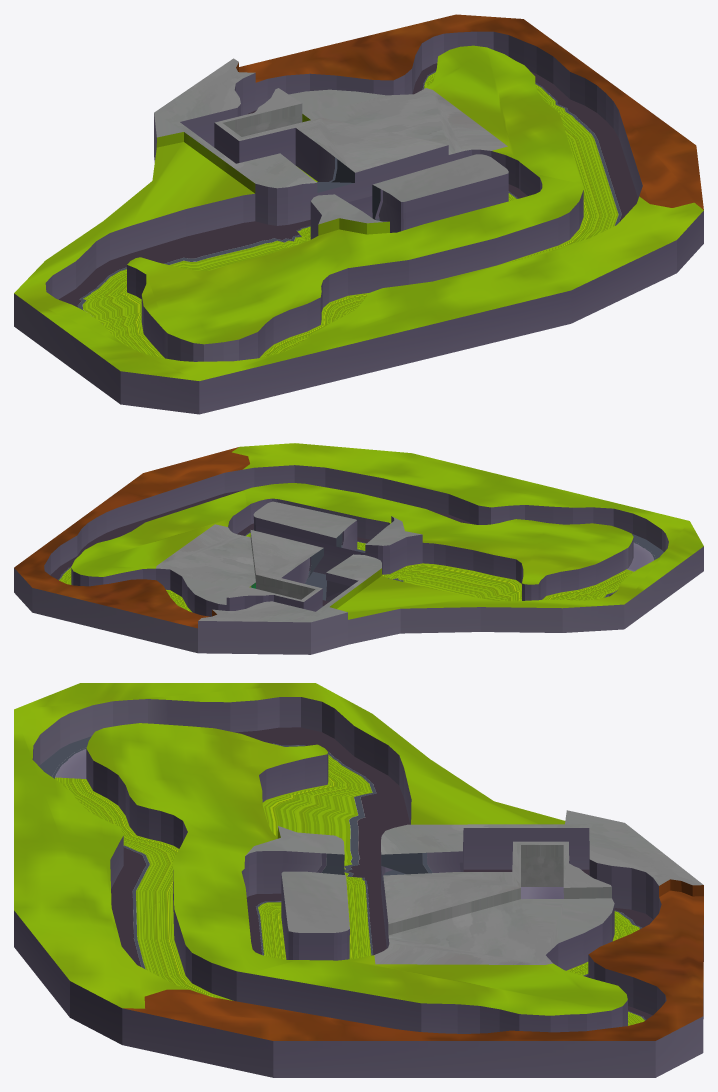
File: coll_mapa.fbx
3 views of the same model, one above another, from view 1: azimuth 30°, elevation 25°; view 2: azimuth 150°, elevation 25°; view 3: azimuth 270°, elevation 25° (orthographic). The views are drawn at different scales.
Visible parts, largest first — view 1: Cube.009; view 2: Cube.009; view 3: Cube.009.
Boxes of the visible parts, x1,y1,x2,y2 form: Cube.009: [14, 14, 703, 414]; Cube.009: [14, 443, 703, 654]; Cube.009: [14, 683, 703, 1077].
Size of the model in its own units: 3649 by 234 by 2972.
1 material, 1 textured.
